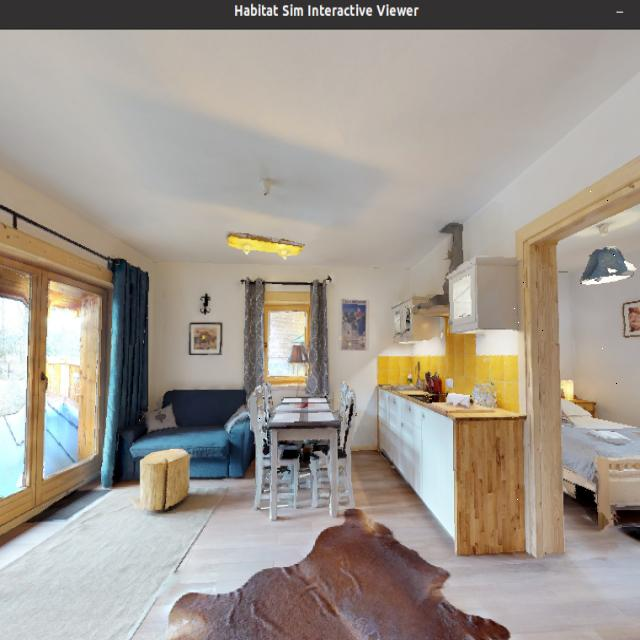bed: (551, 365, 640, 538)
door-frame: (511, 156, 640, 561)
sofa: (134, 374, 271, 492)
table: (248, 383, 360, 514)
